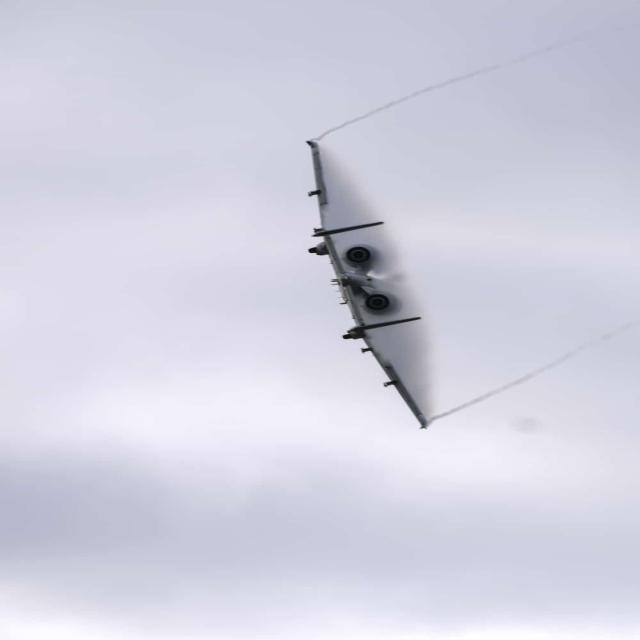MIL_Plane: (306, 140, 430, 430)
